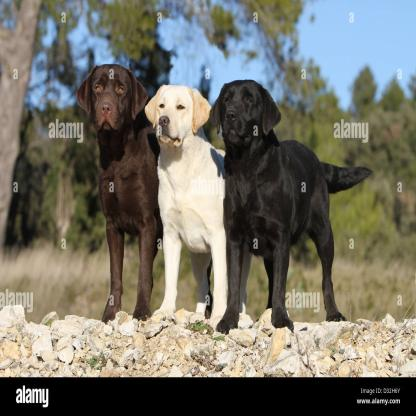Labarador Retriever: (208, 79, 371, 333), (74, 64, 164, 324), (143, 85, 226, 328)
